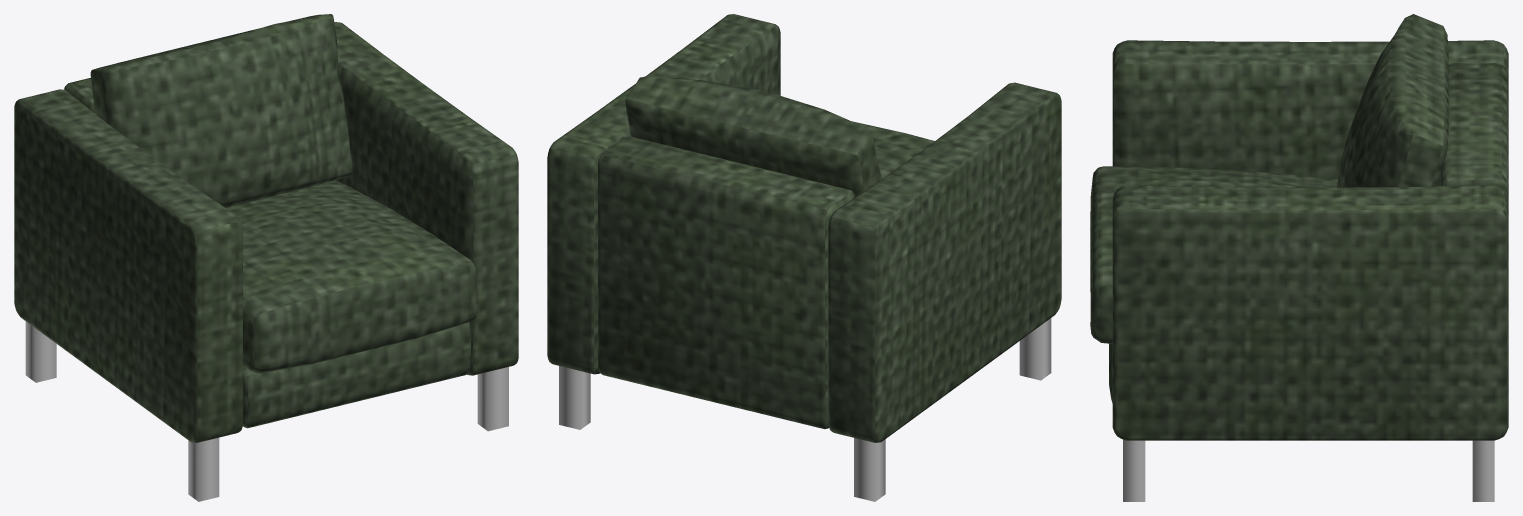
Rendered from SM_Living_Sofa_1P.fbx.
The picture shows the model from 3 angles, left to right: view 1: azimuth 30°, elevation 25°; view 2: azimuth 150°, elevation 25°; view 3: azimuth 270°, elevation 25°; orthographic projection. The views are drawn at different scales.
Parts seen in each view (by area): view 1: Sofa_1P_ArmchairKarlstad; view 2: Sofa_1P_ArmchairKarlstad; view 3: Sofa_1P_ArmchairKarlstad.
Part boxes in pixels (box(x1,y1,x2,y2)): Sofa_1P_ArmchairKarlstad: box(14, 14, 518, 501); Sofa_1P_ArmchairKarlstad: box(547, 14, 1061, 501); Sofa_1P_ArmchairKarlstad: box(1090, 14, 1508, 501).
Size of the model in its own units: 0.8338 by 0.8688 by 0.8103.
